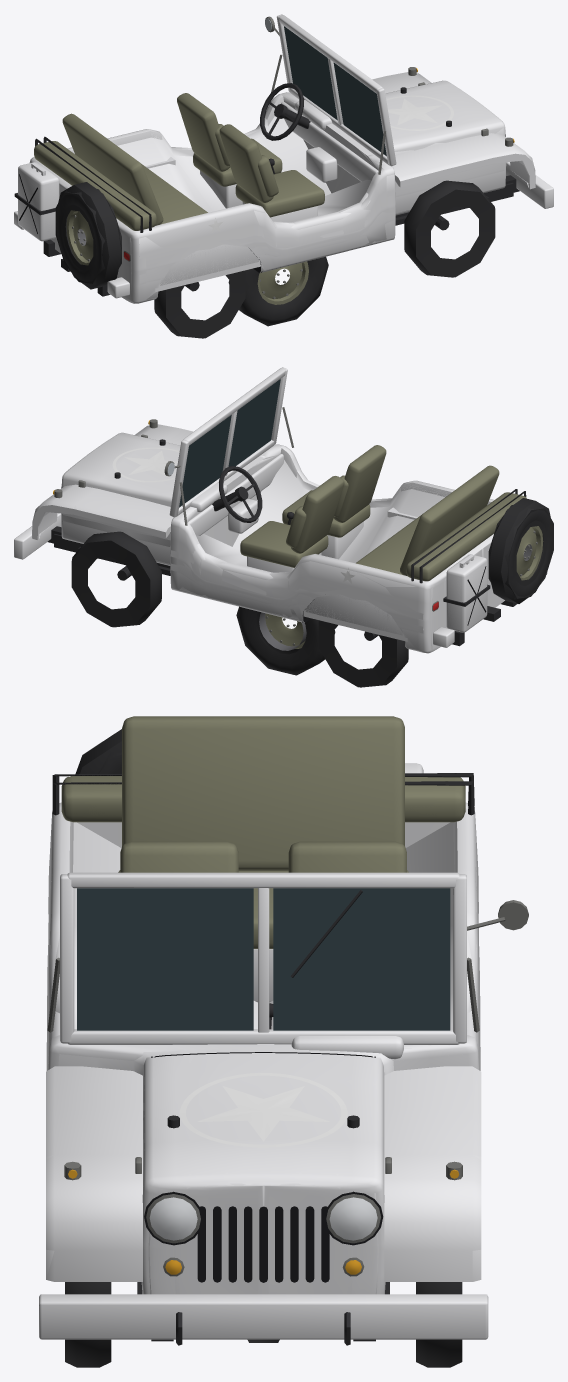
File: jeep.glb
3 views of the same model, one above another, from view 1: azimuth 30°, elevation 25°; view 2: azimuth 150°, elevation 25°; view 3: azimuth 270°, elevation 25° (orthographic). The views are drawn at different scales.
Parts seen in each view (by area): view 1: jeep, jeep_lo, jeep_wf; view 2: jeep, jeep_lo, jeep_wf; view 3: jeep, jeep_lo.
Part boxes in pixels (x1,y1,x2,y2): jeep: (14, 14, 553, 303); jeep_lo: (19, 86, 535, 338); jeep_wf: (228, 256, 328, 326); jeep: (14, 367, 553, 653); jeep_lo: (32, 438, 553, 687); jeep_wf: (236, 606, 335, 675); jeep: (39, 716, 528, 1345); jeep_lo: (46, 752, 481, 1367).
Bounding box in the file's own units: 3.7 × 1.99 × 1.74.
